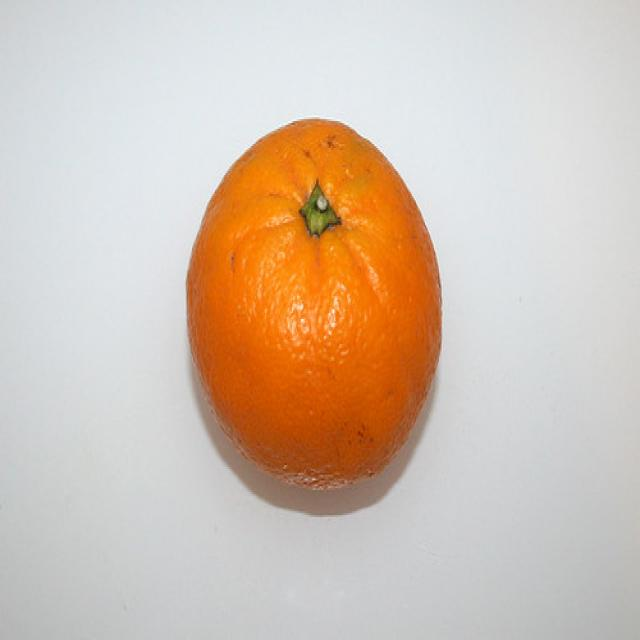Orange: (185, 117, 441, 491)
